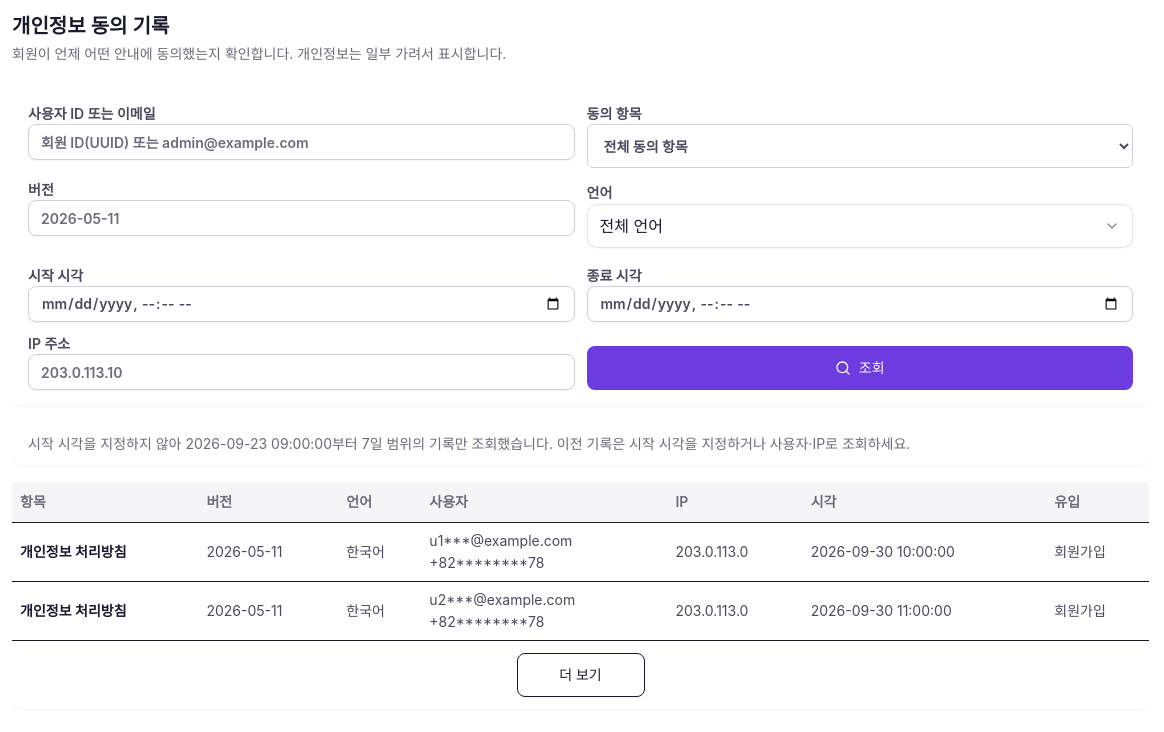
Test case: AdminConsentAuditPage › loads bounded pages and follows the server cursor for older rows
This screenshot has width=1164, height=732.
Expected: the text "u1***@example.com" is shown, left=429, top=532, right=572, bottom=548
Expected: the message shows "2026-09-23 09:00:00부터 7일 범위", left=12, top=422, right=1149, bottom=466
Click the button "더 보기" at coordinates (580, 674), box left=516, top=652, right=644, bottom=696
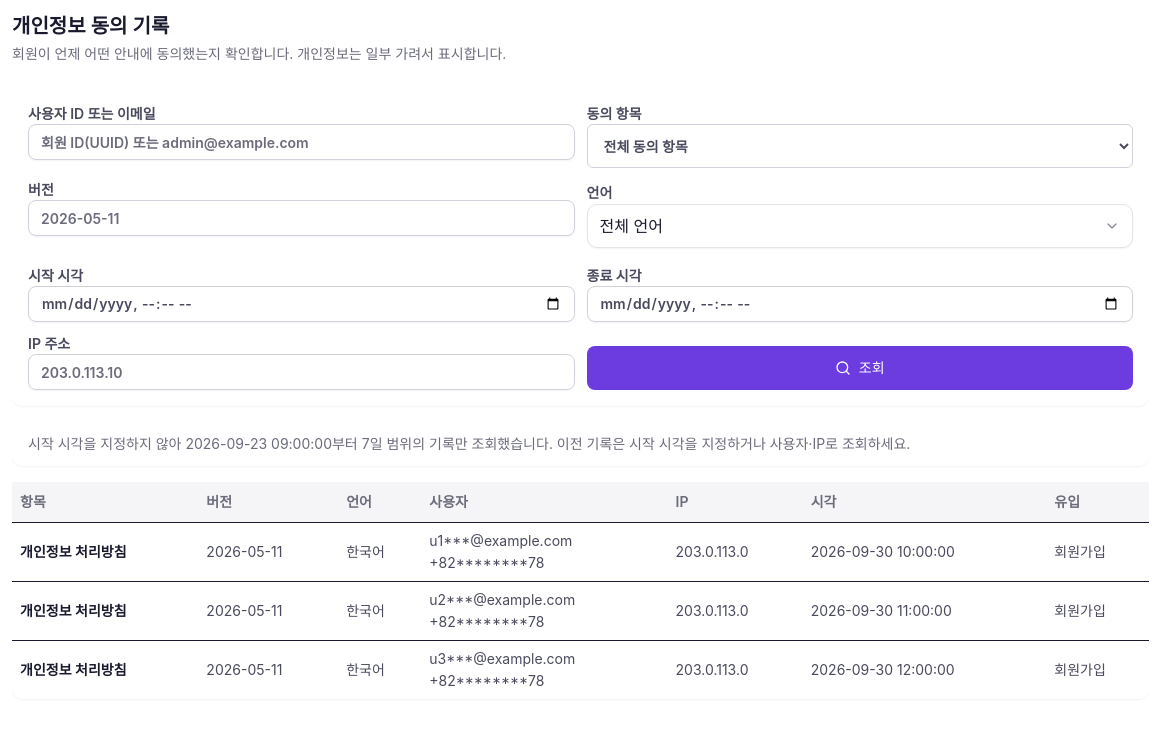
Expected: the text "u1***@example.com" is shown, left=429, top=532, right=572, bottom=548
Expected: the text "u3***@example.com" is shown, left=429, top=650, right=575, bottom=666
Expected: the button "더 보기" is gone
